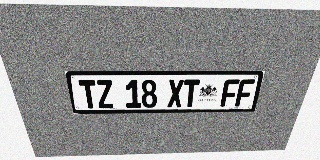1: (125, 80, 141, 108)
8: (141, 80, 157, 108)
F: (220, 79, 240, 107), (235, 79, 255, 106)
T: (78, 80, 99, 108), (182, 79, 200, 107)
X: (167, 79, 184, 107)
Z: (95, 80, 114, 108)
